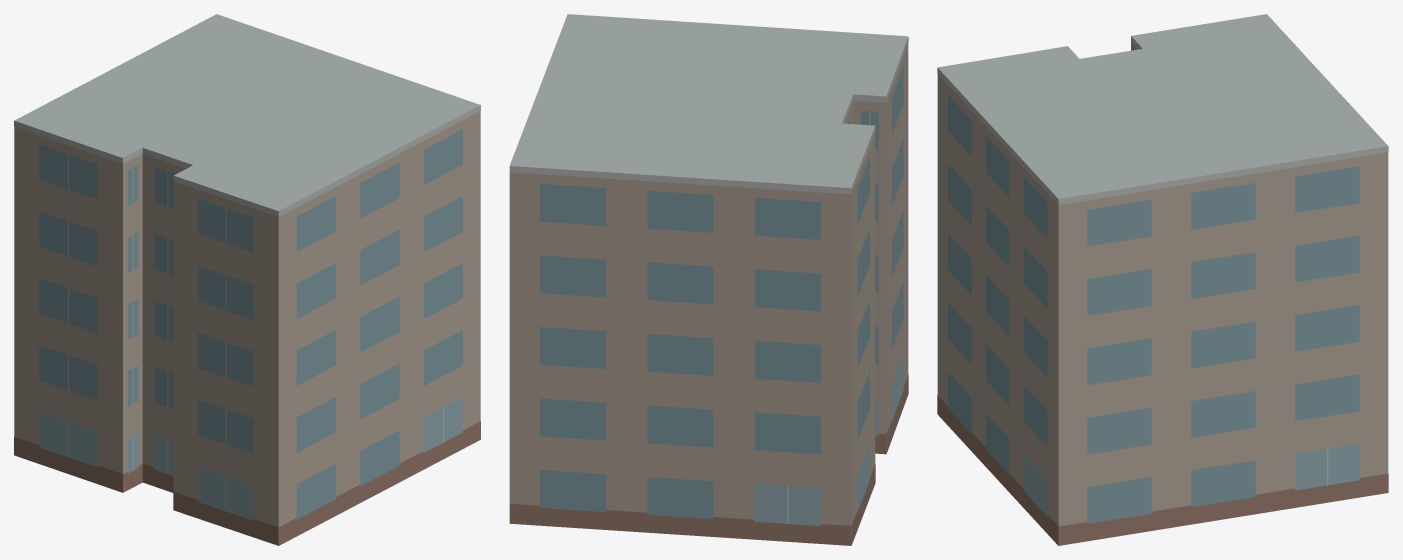
File: survey-upis-33028931.glb
The picture shows the model from 3 angles, left to right: view 1: azimuth 30°, elevation 25°; view 2: azimuth 150°, elevation 25°; view 3: azimuth 270°, elevation 25°; orthographic projection. The views are drawn at different scales.
Visible parts, largest first — view 1: survey-upis-33028931.tmp; view 2: survey-upis-33028931.tmp; view 3: survey-upis-33028931.tmp.
Part boxes in pixels (<box>): survey-upis-33028931.tmp: <box>14,14,480,545</box>; survey-upis-33028931.tmp: <box>509,14,908,545</box>; survey-upis-33028931.tmp: <box>937,14,1388,545</box>.
Size of the model in its own units: 15.92 by 13.9 by 16.39.
